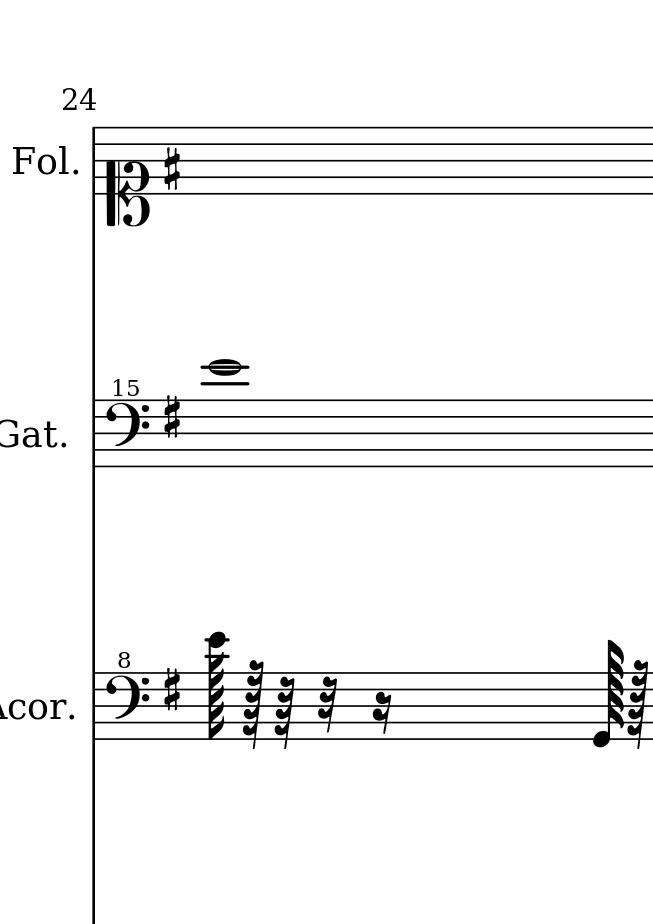128_0: (592, 638, 625, 749)
128_12: (203, 630, 228, 741)
1_12: (205, 358, 244, 471)
2: (61, 86, 78, 112)
4: (80, 86, 96, 113)
Fclef: (102, 398, 150, 469)
High_Fclef: (103, 650, 151, 743)
Rests128: (627, 659, 650, 750), (241, 660, 264, 748)
Rests16: (371, 690, 393, 736)
Rests32: (315, 675, 338, 736)
Rests64: (273, 673, 296, 748)
Sharp: (159, 666, 184, 716), (160, 393, 183, 443), (162, 144, 182, 194)
Single_barline: (87, 674, 102, 739), (88, 127, 102, 194), (88, 400, 102, 466)
Soprano_Cclef: (102, 124, 150, 229)
